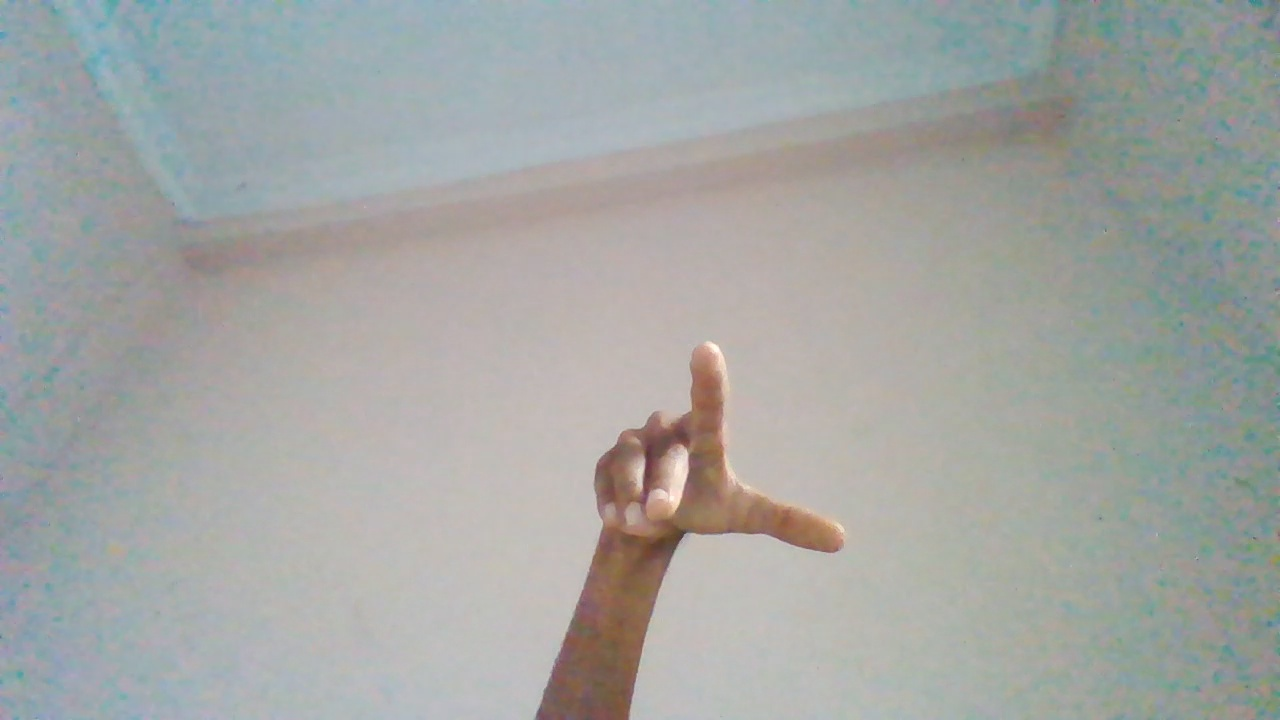ke: (587, 348, 851, 633)
